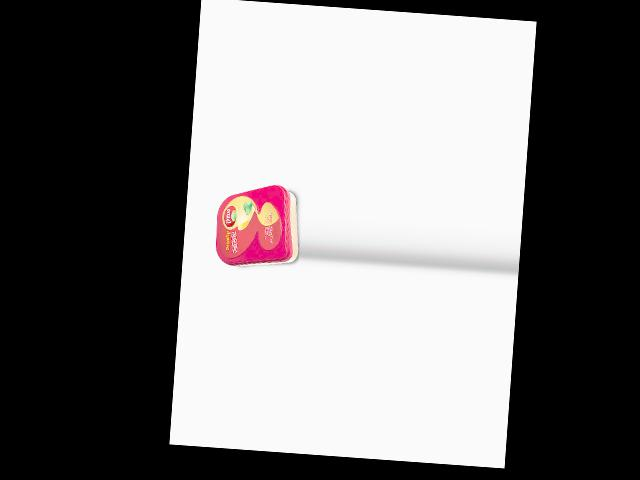cheese: (213, 180, 303, 270)
